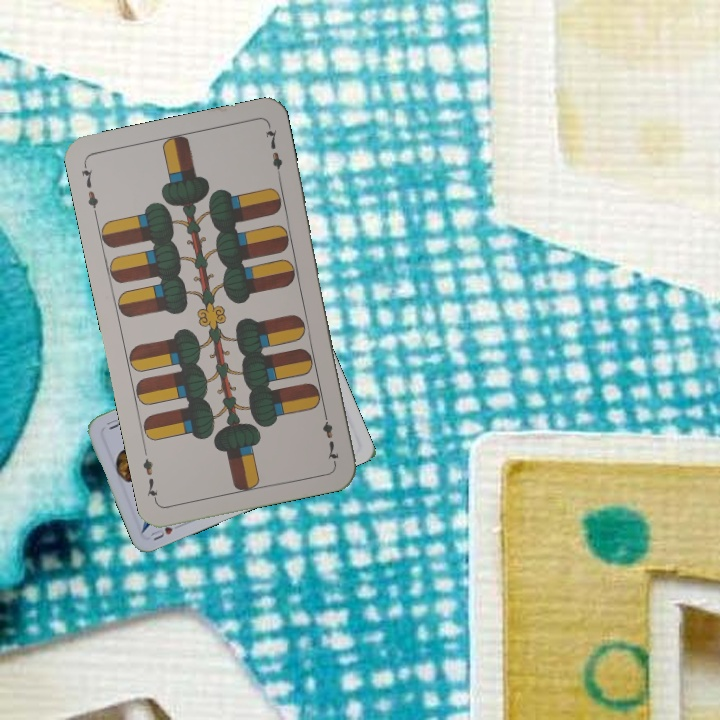E7: (77, 160, 101, 219), (318, 406, 341, 465)
HU: (146, 520, 185, 543)
